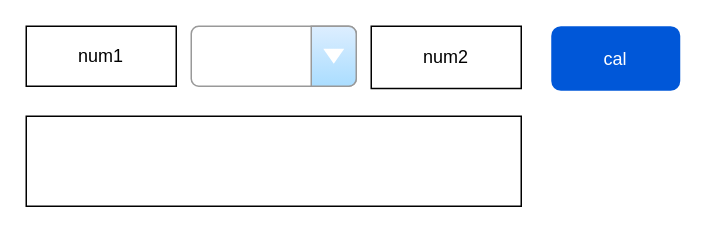
Image size: 707x233. Some labels were removed from this diagram. The centre of each missing label's shape, as x and y in pixels:
cb: the point at 273,55
result: the point at 273,160
